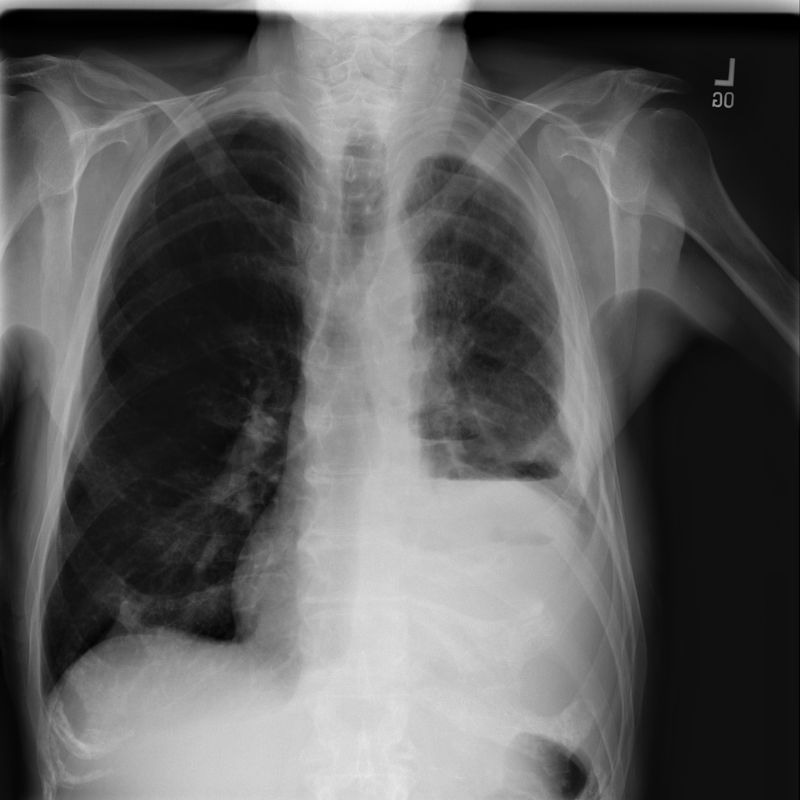PLEURAL EFFUSION: (496, 440, 626, 664)
